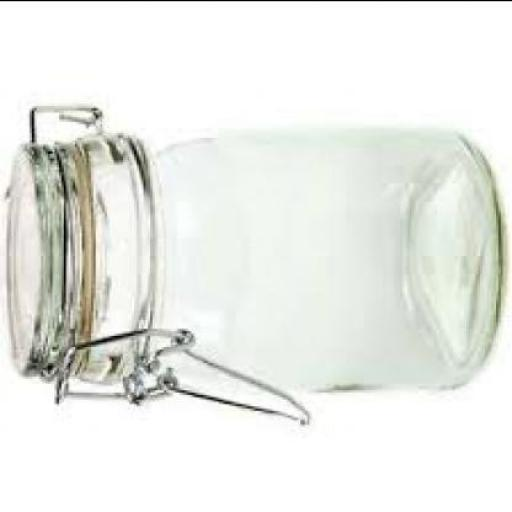glass: (2, 125, 501, 389)
metal: (132, 330, 307, 418), (26, 102, 100, 139)
